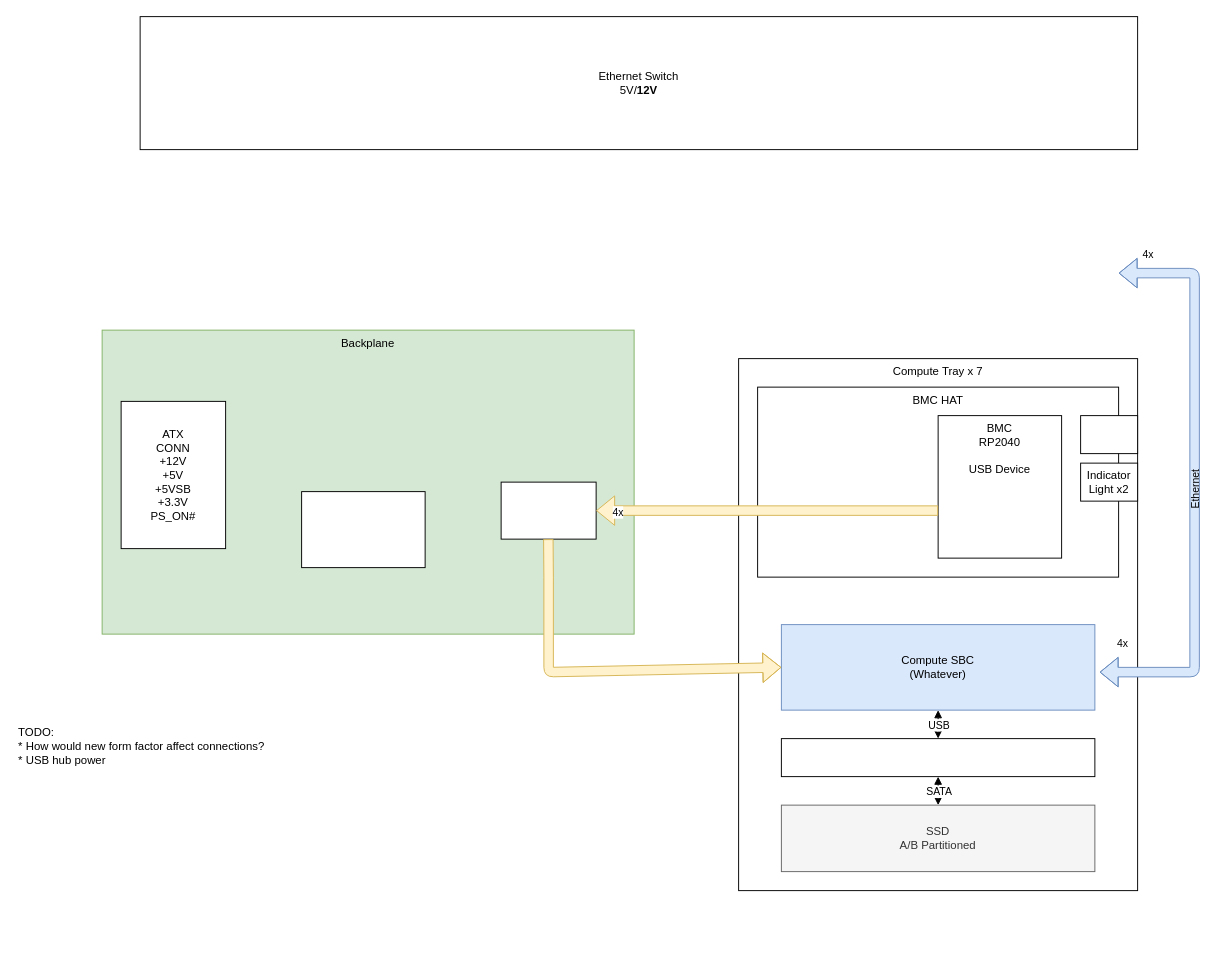
This 1217x974 diagram has some shape labels left out. The centre of each missing label's shape, as x and y in pixels:
"Backplane Mgmt RP2040 USB Device" belongs at (x=363, y=529).
"Button" belongs at (x=1109, y=434).
"USB Hub" belongs at (x=548, y=510).
"USB/SATA Adapter" belongs at (x=937, y=757).
